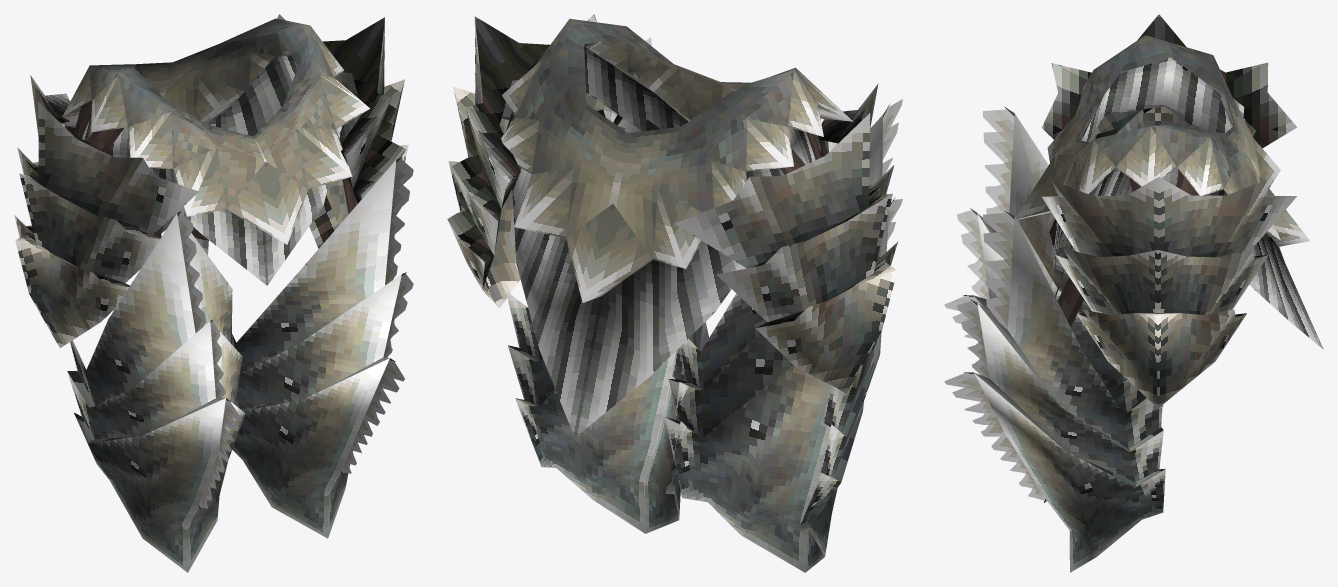
3 renders of one model, left to right at view 1: azimuth 30°, elevation 25°; view 2: azimuth 150°, elevation 25°; view 3: azimuth 270°, elevation 25°, orthographic. The views are drawn at different scales.
Parts seen in each view (by area): view 1: mesh00; view 2: mesh00; view 3: mesh00.
Part boxes in pixels (box(x1,y1,x2,y2)): mesh00: box(14, 14, 413, 572); mesh00: box(447, 14, 902, 572); mesh00: box(944, 14, 1323, 572).
Size of the model in its own units: 63.98 by 74 by 56.56.
